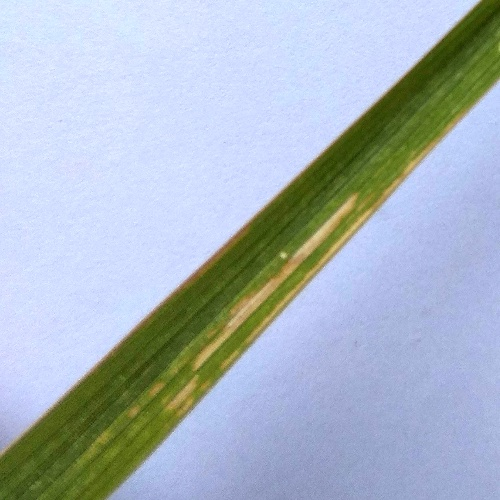Busuk Leher: (158, 187, 373, 365), (168, 372, 207, 420)
